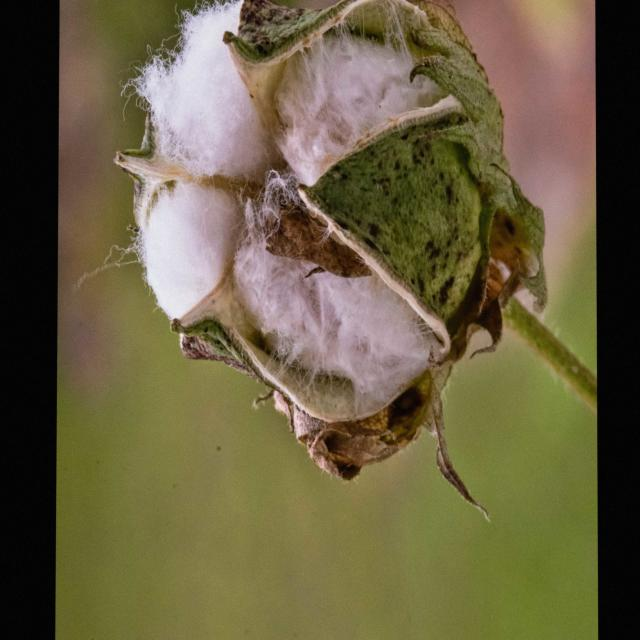Split Cotton Boll: (123, 1, 552, 452)
